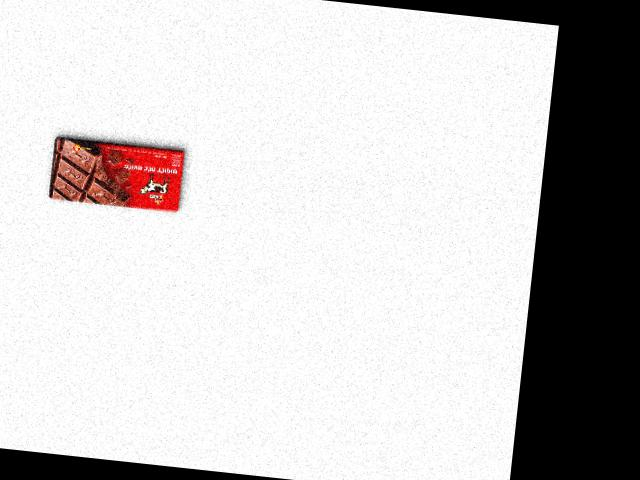chocolate: (45, 131, 189, 215)
